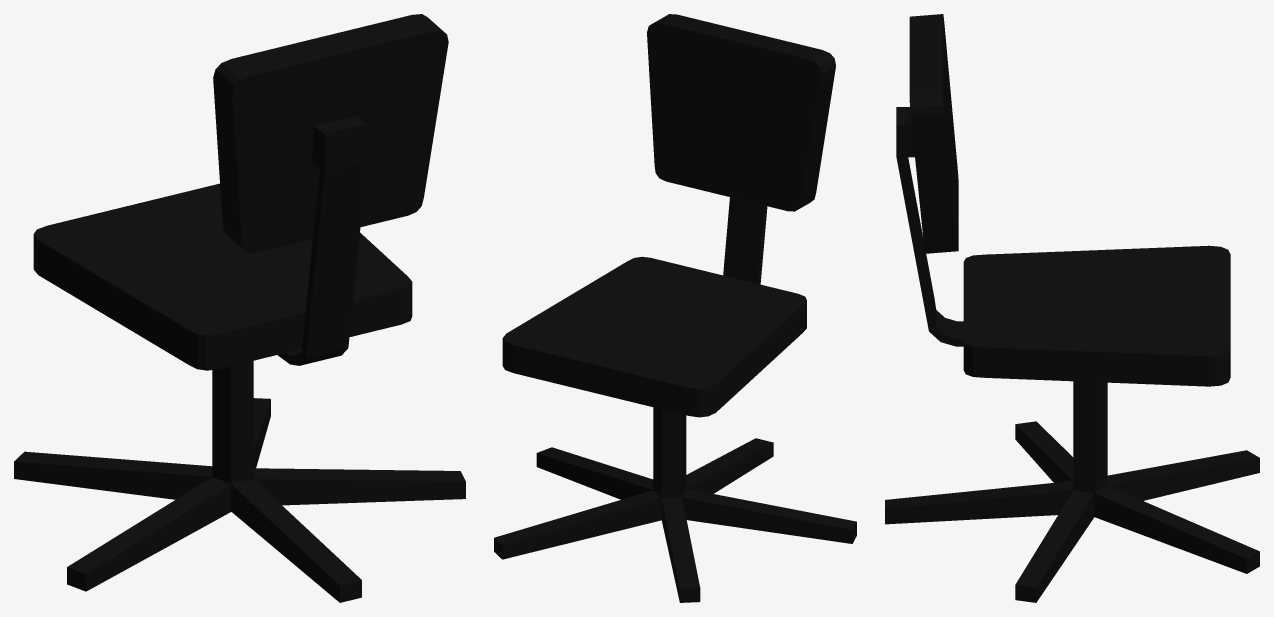
File: chair.FBX
3 views of the same model, side by side, from view 1: azimuth 30°, elevation 25°; view 2: azimuth 150°, elevation 25°; view 3: azimuth 270°, elevation 25° (orthographic). The views are drawn at different scales.
Parts seen in each view (by area): view 1: chair; view 2: chair; view 3: chair.
Boxes of the visible parts, box(x1,y1,x2,y2) form: chair: box(14, 14, 465, 602); chair: box(494, 14, 856, 602); chair: box(885, 14, 1259, 602).
Bounding box in the file's own units: 46.58 × 60.85 × 44.3.
